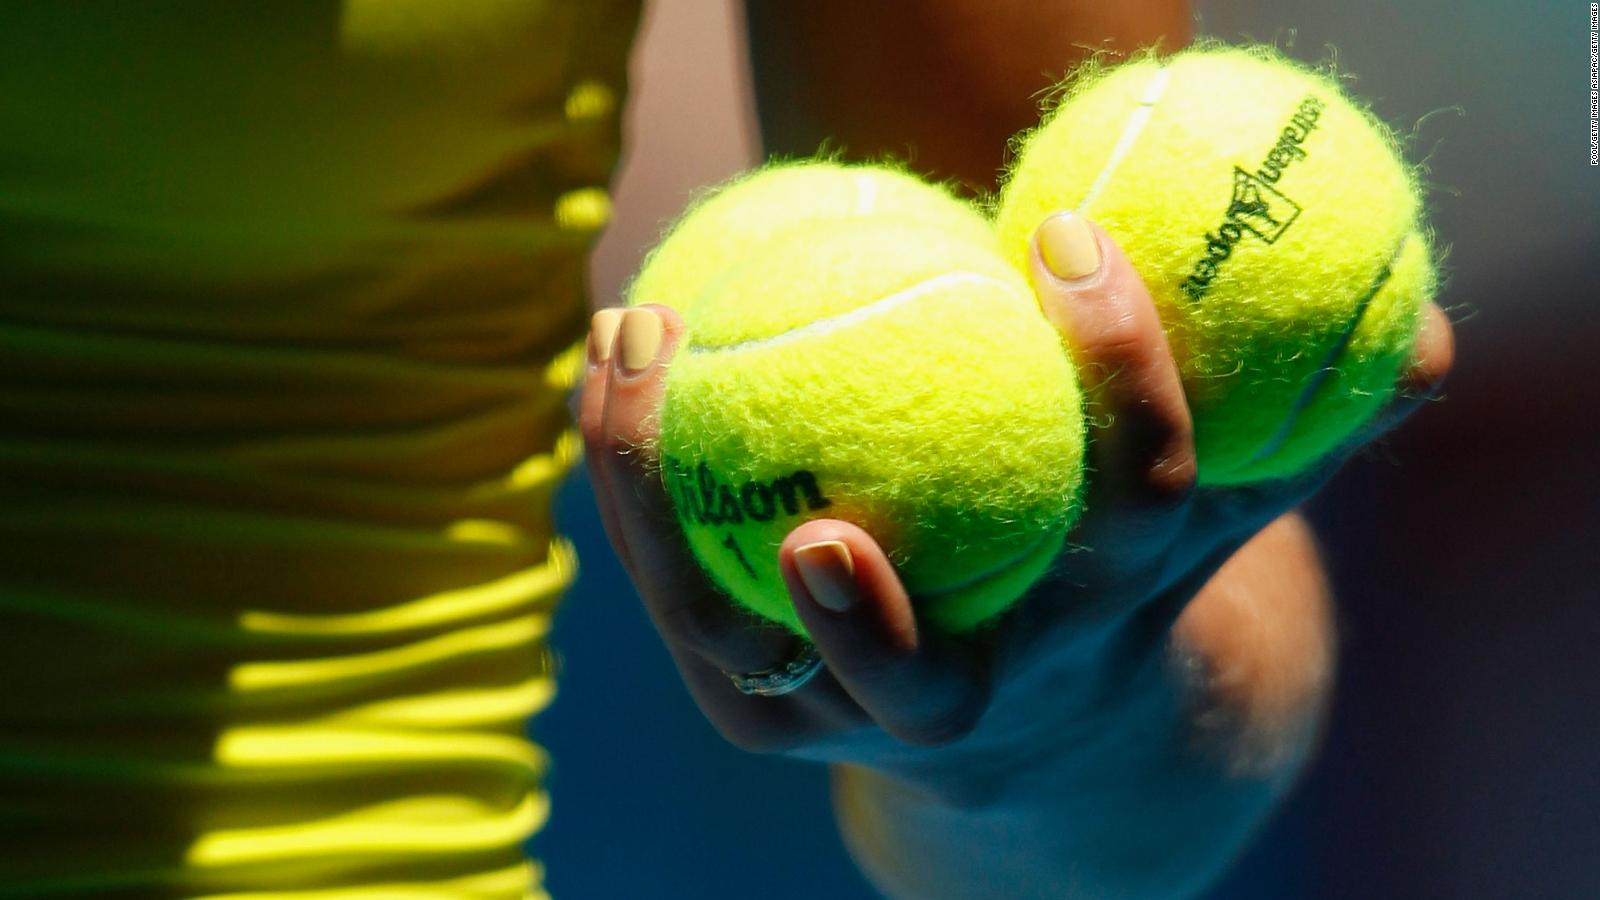ball: (626, 162, 1080, 627), (992, 48, 1426, 485)
